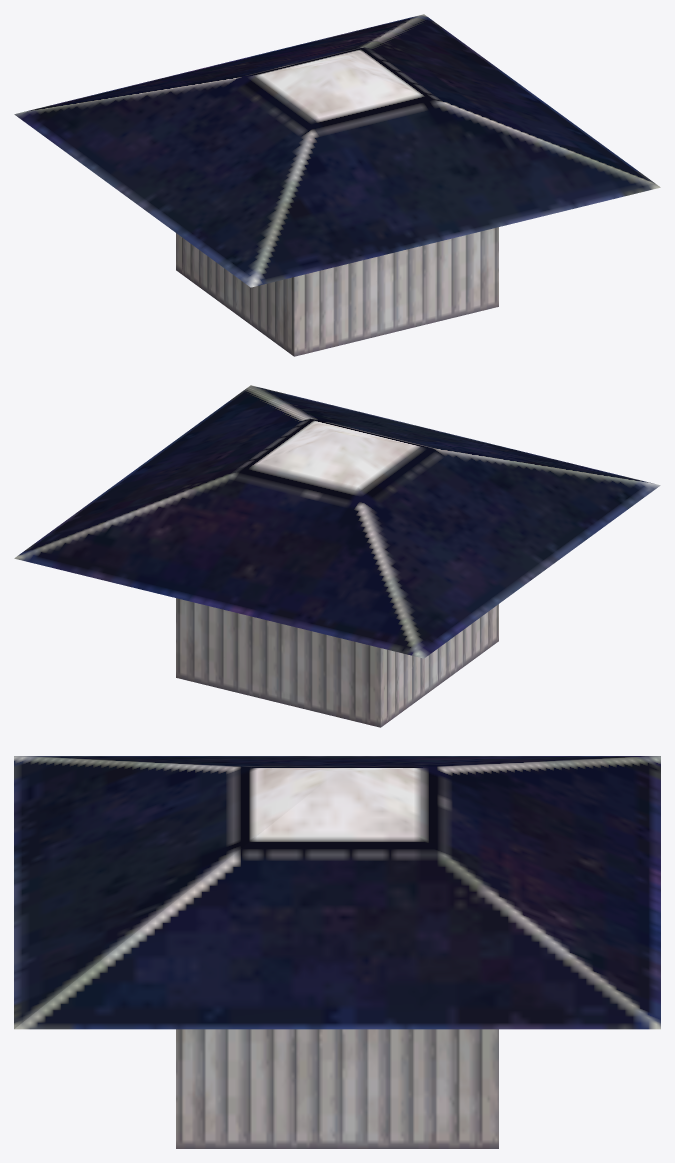
File: mun_all_imprv_streetlamp_sm_s01_l1.fbx
The picture shows the model from 3 angles, top to bottom: view 1: azimuth 30°, elevation 25°; view 2: azimuth 150°, elevation 25°; view 3: azimuth 270°, elevation 25°; orthographic projection. The views are drawn at different scales.
Visible parts, largest first — view 1: mesh_node; view 2: mesh_node; view 3: mesh_node.
Boxes of the visible parts, left/top/right/bottom form: mesh_node: left=14, top=14, right=660, bottom=356; mesh_node: left=14, top=385, right=660, bottom=727; mesh_node: left=14, top=756, right=660, bottom=1148.
Size of the model in its own units: 0.4006 by 0.2109 by 0.4006.
1 material, 1 textured.
